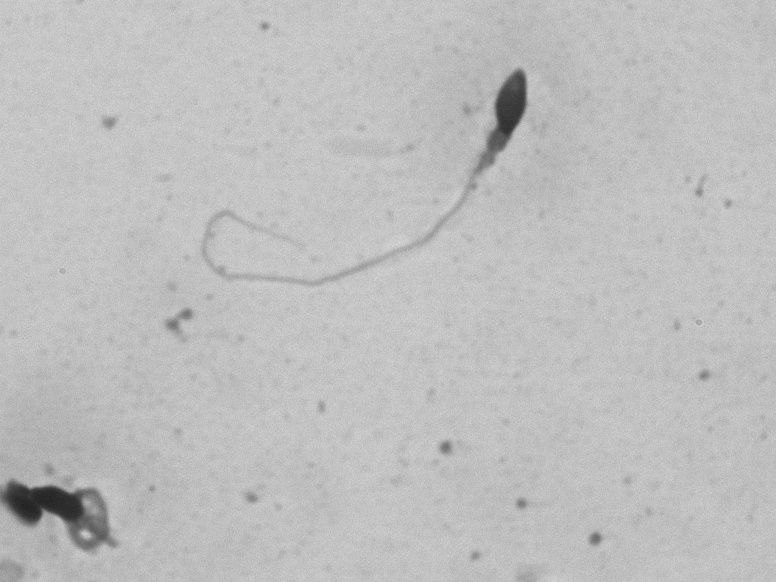Abnormal: (166, 33, 554, 328)
